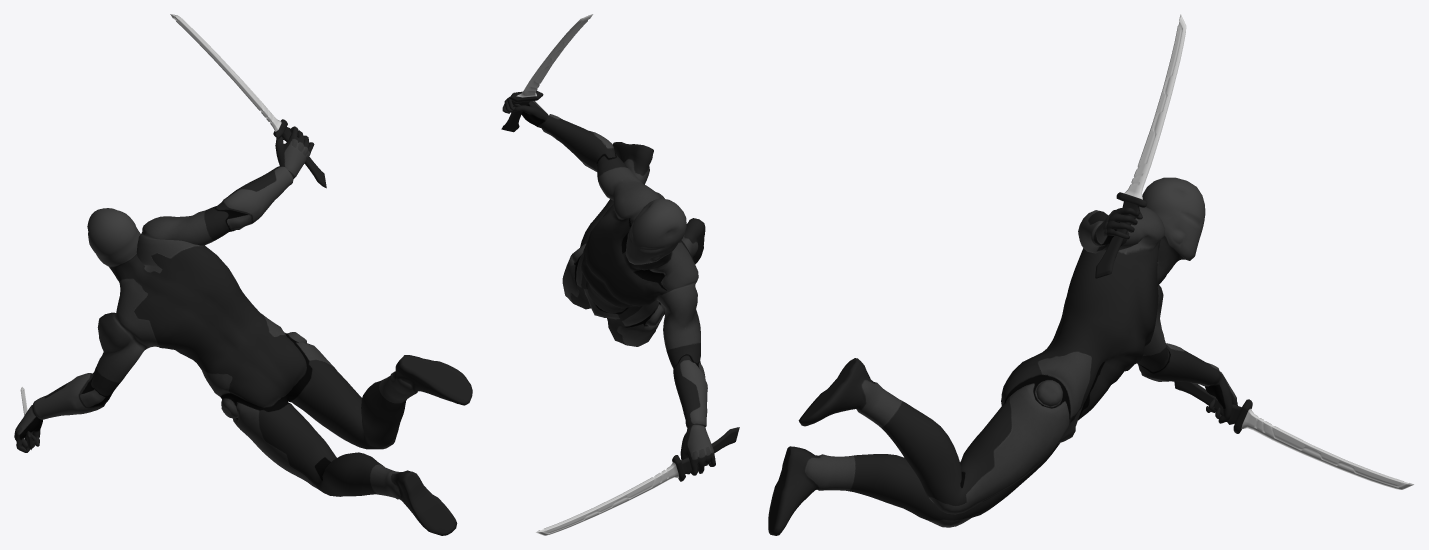
The picture shows the model from 3 angles, left to right: view 1: azimuth 30°, elevation 25°; view 2: azimuth 150°, elevation 25°; view 3: azimuth 270°, elevation 25°; orthographic projection. The views are drawn at different scales.
Visible parts, largest first — view 1: Cyborg_Ninja_Killer, Sword_l001; view 2: Cyborg_Ninja_Killer, Sword_l, Sword_l001; view 3: Cyborg_Ninja_Killer, Sword_l, Sword_l001.
Part boxes in pixels (box(x1,y1,x2,y2)): Cyborg_Ninja_Killer: box(14, 126, 472, 535); Sword_l001: box(170, 14, 326, 188); Cyborg_Ninja_Killer: box(502, 92, 715, 475); Sword_l: box(536, 427, 739, 535); Sword_l001: box(501, 14, 592, 132); Cyborg_Ninja_Killer: box(768, 177, 1237, 535); Sword_l: box(1174, 381, 1414, 489); Sword_l001: box(1095, 14, 1186, 278).
Bounding box in the file's own units: 117 × 176 × 204.
2 materials, 2 textured.
